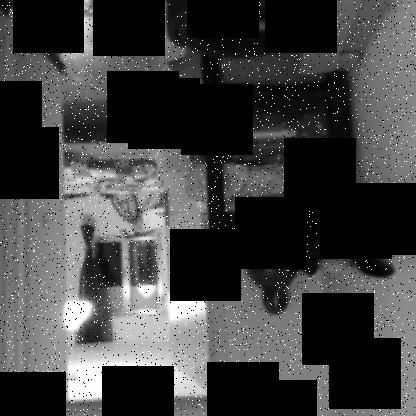Porte: (5, 4, 235, 415)
